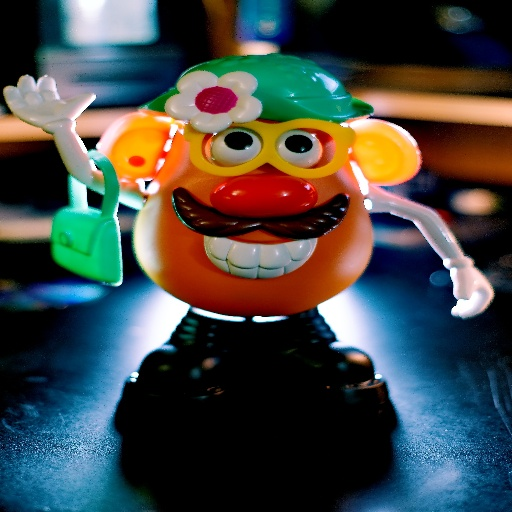hand: (1, 71, 96, 134), (438, 241, 506, 322)
